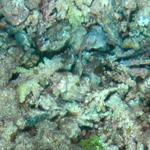alive: (8, 1, 146, 148)
